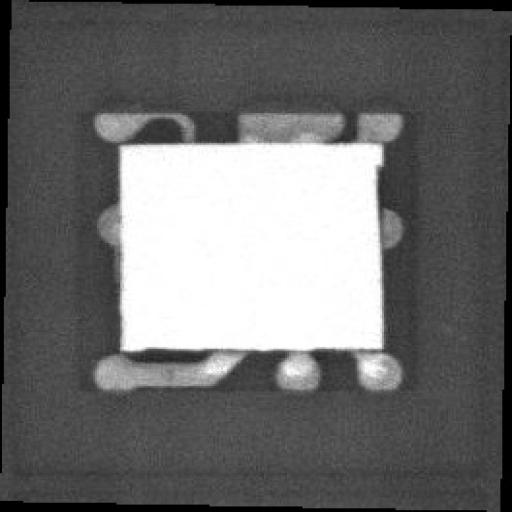DIE_BROKEN: (370, 161, 384, 221), (140, 344, 217, 354)
